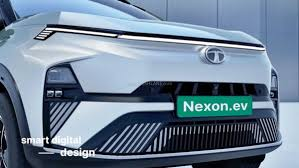Tata Nexon: (1, 1, 283, 168)
